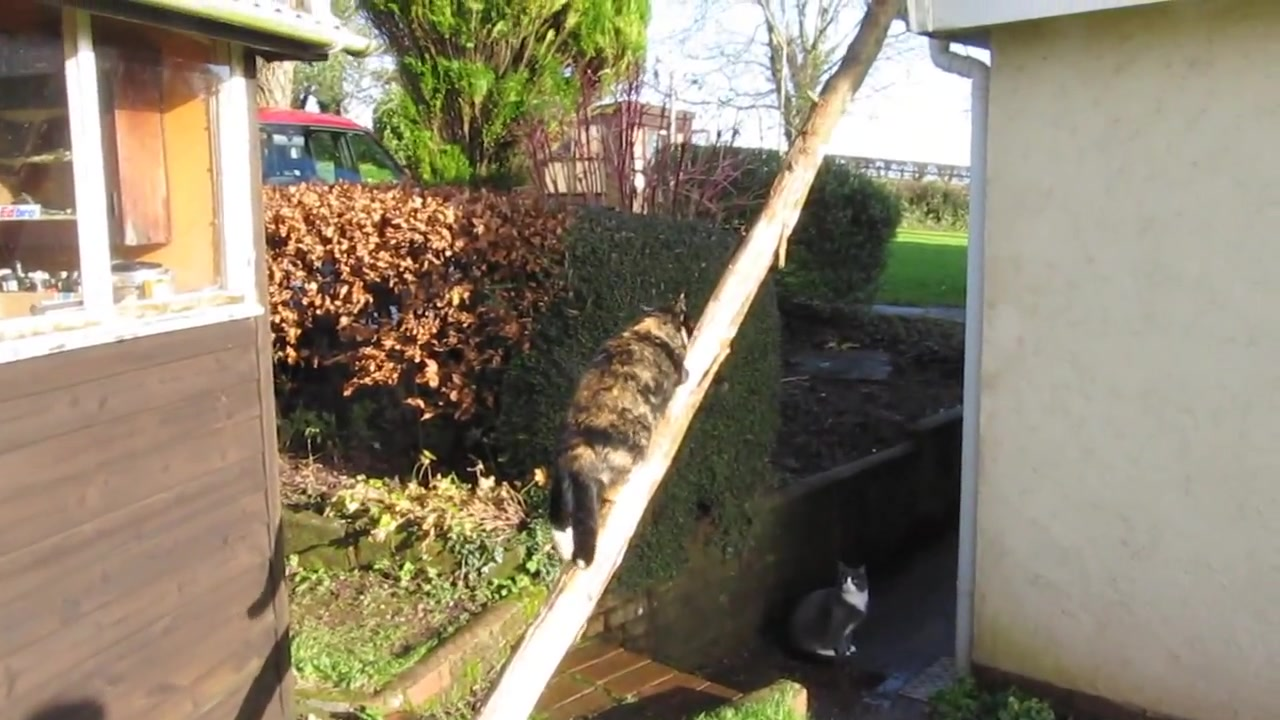cat: (555, 291, 694, 573)
